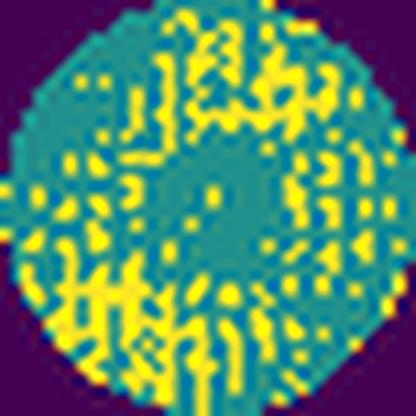Donut: (19, 14, 399, 402)
